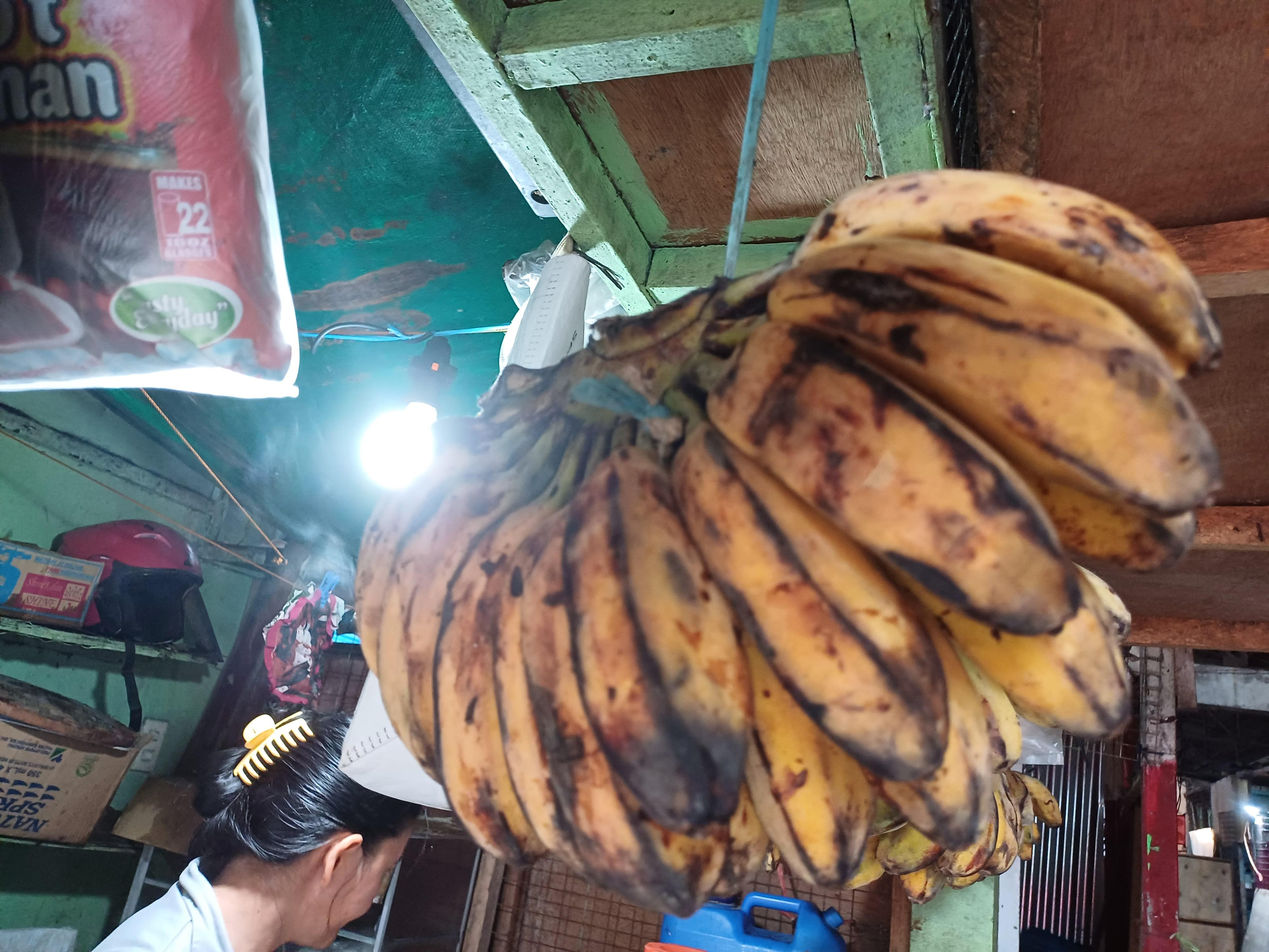ripe: (382, 171, 1223, 920)
